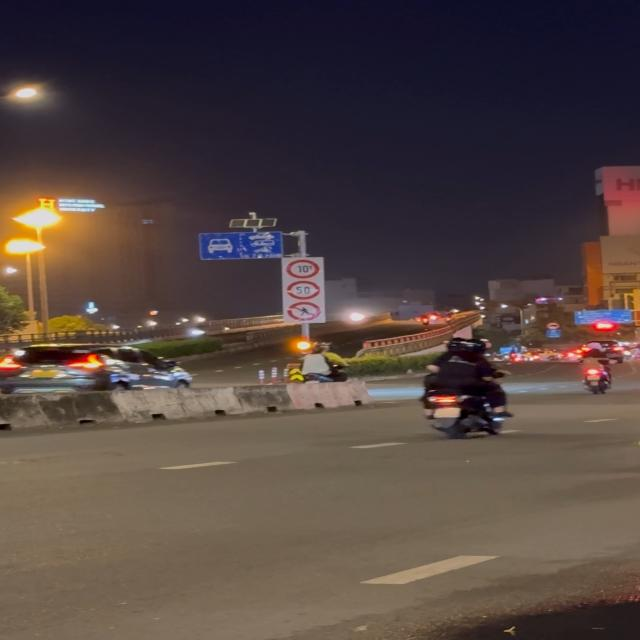Bien bao cam nguoi di bo: (286, 301, 322, 321)
Bien bao toc do toi da cho phep: (286, 282, 324, 300)
